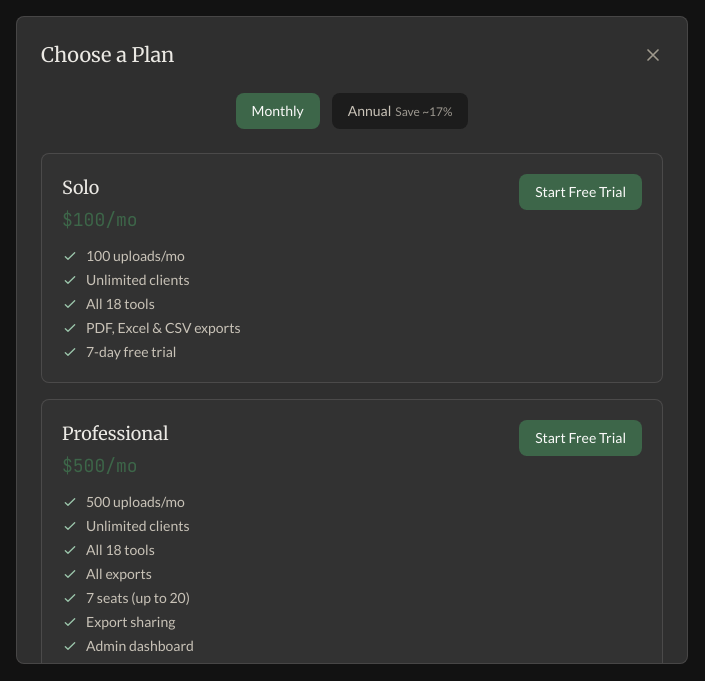
Test: UpgradeModal › shows seat pricing info for annual interval
Click the button "Annual": (400, 111) [332,93,468,129]
(page scrolled)
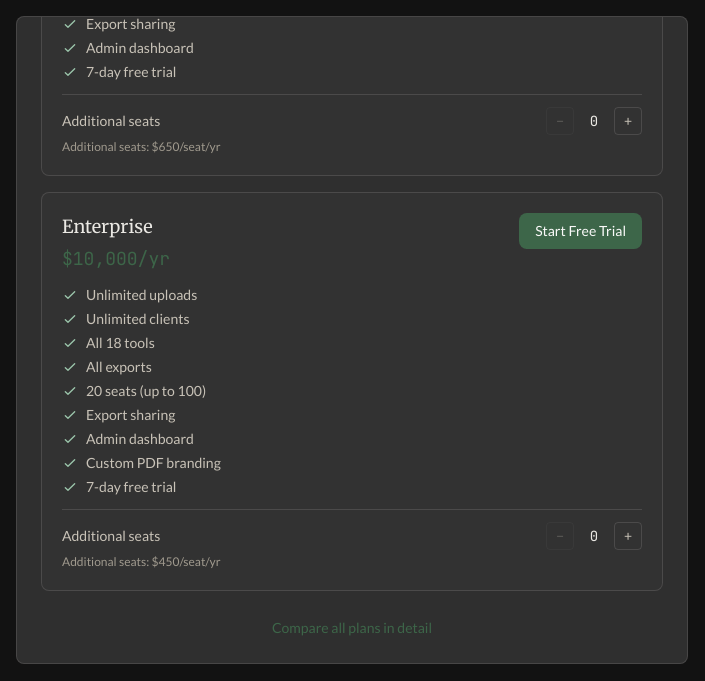
Expected: the text "Additional seats: $650/seat/yr" is shown, [62,139,220,154]
Expected: the text "Additional seats: $450/seat/yr" is shown, [62,554,220,569]
